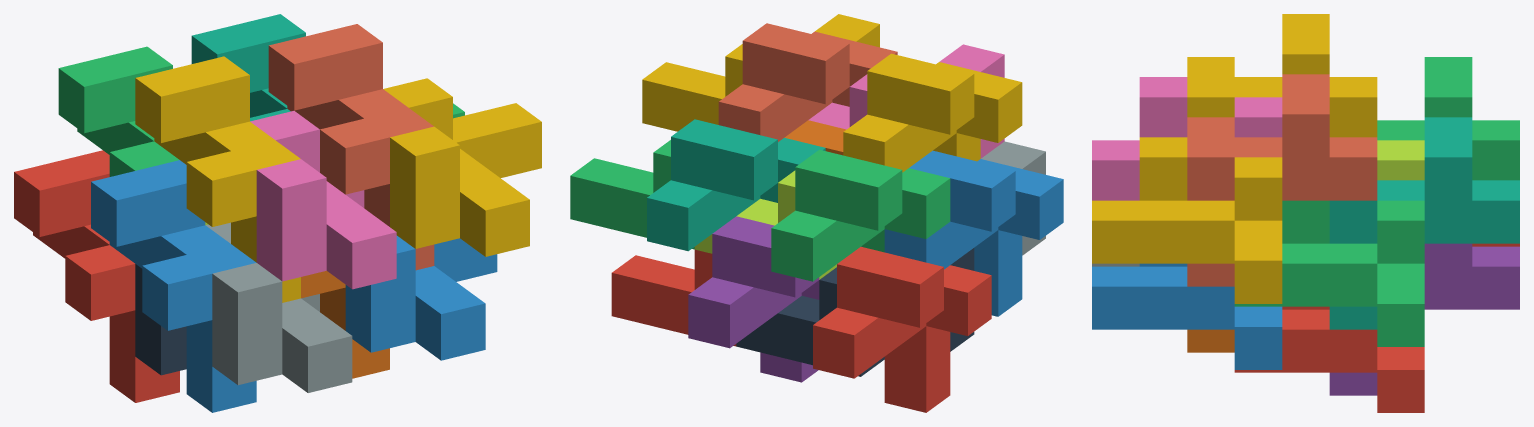
The model's file is tiling.obj.
3 renders of one model, left to right at view 1: azimuth 30°, elevation 25°; view 2: azimuth 150°, elevation 25°; view 3: azimuth 270°, elevation 25°, orthographic. The views are drawn at different scales.
Parts seen in each view (by area): view 1: copy_2_domain_8, copy_1_domain_2, copy_1_domain_4, copy_1_domain_8, copy_2_domain_4, copy_1_domain_1, copy_2_domain_2, copy_2_domain_6, copy_1_domain_3, copy_1_domain_7, copy_2_domain_1, copy_1_domain_6; view 2: copy_1_domain_1, copy_1_domain_3, copy_1_domain_4, copy_1_domain_2, copy_1_domain_7, copy_1_domain_8, copy_1_domain_5, copy_2_domain_8, copy_2_domain_7, copy_2_domain_5, copy_2_domain_1, copy_2_domain_4 (+3 smaller); view 3: copy_2_domain_8, copy_2_domain_7, copy_1_domain_8, copy_1_domain_7, copy_2_domain_6, copy_1_domain_4, copy_2_domain_5, copy_2_domain_4, copy_1_domain_5, copy_1_domain_3, copy_2_domain_3, copy_1_domain_6.
Boxes of the visible parts, x1,y1,x2,y2 form: copy_2_domain_8: [383, 78, 541, 256]; copy_1_domain_2: [91, 160, 256, 412]; copy_1_domain_4: [135, 56, 300, 302]; copy_1_domain_8: [268, 24, 434, 270]; copy_2_domain_4: [250, 111, 396, 289]; copy_1_domain_1: [14, 150, 179, 402]; copy_2_domain_2: [206, 222, 352, 392]; copy_2_domain_6: [345, 235, 497, 360]; copy_1_domain_3: [58, 46, 179, 176]; copy_1_domain_7: [191, 14, 305, 121]; copy_2_domain_1: [135, 264, 186, 375]; copy_1_domain_6: [301, 270, 389, 378]; copy_1_domain_1: [813, 246, 991, 412]; copy_1_domain_3: [771, 149, 950, 281]; copy_1_domain_4: [843, 53, 1022, 172]; copy_1_domain_2: [884, 150, 1063, 316]; copy_1_domain_7: [647, 119, 825, 251]; copy_1_domain_8: [718, 23, 897, 141]; copy_1_domain_5: [688, 216, 819, 382]; copy_2_domain_8: [642, 14, 879, 131]; copy_2_domain_7: [570, 140, 694, 249]; copy_2_domain_5: [611, 249, 736, 346]; copy_2_domain_1: [736, 248, 974, 376]; copy_2_domain_4: [808, 44, 1004, 158]; copy_2_domain_8: [1092, 137, 1282, 303]; copy_2_domain_7: [1234, 200, 1424, 346]; copy_1_domain_8: [1187, 74, 1377, 286]; copy_1_domain_7: [1329, 117, 1519, 329]; copy_2_domain_6: [1092, 263, 1282, 369]; copy_1_domain_4: [1187, 14, 1377, 137]; copy_2_domain_5: [1234, 306, 1424, 412]; copy_2_domain_4: [1092, 77, 1282, 200]; copy_1_domain_5: [1329, 243, 1519, 395]; copy_1_domain_3: [1377, 57, 1519, 180]; copy_2_domain_3: [1377, 140, 1424, 180]; copy_1_domain_6: [1187, 329, 1234, 352].
Size of the model in its own units: 9 by 7 by 9.
